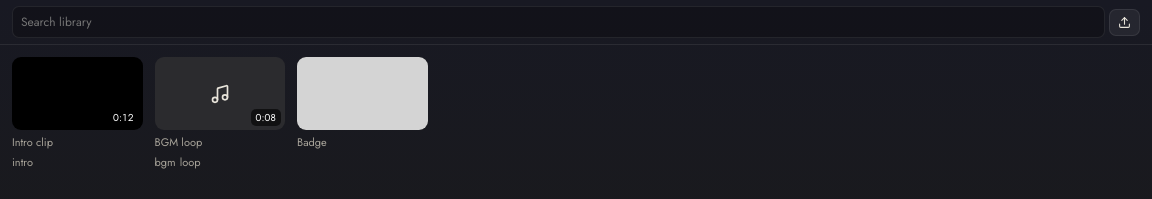
Test case: LibraryZone › Escape cancels the label edit without a PATCH
The width and height of the screenshot is (1152, 199).
Expected: the field with placeholder "Search library" is shown, 12,6 -> 1105,38
Double-click the text titled "Double-click to edit" at (32, 142), box 12,134 -> 53,150
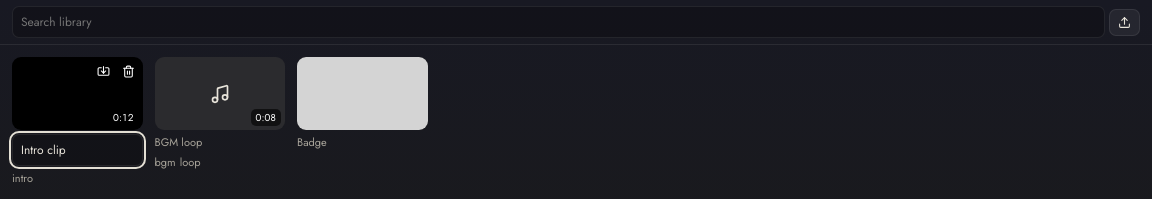
Replace the text in the 2nd field with "Whatever". click: (77, 150)
box: 12,134 -> 142,166
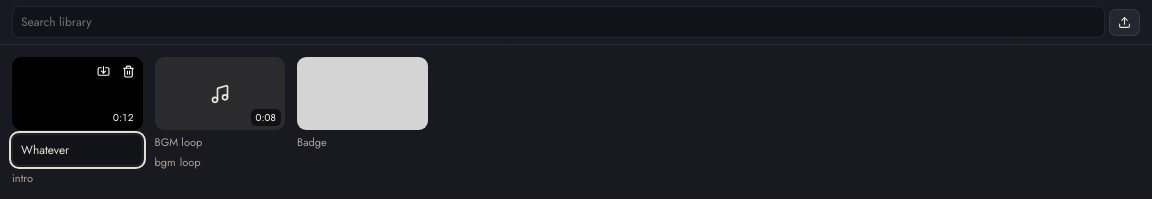
Press Escape in the 2nd field, box 12,134 -> 142,166
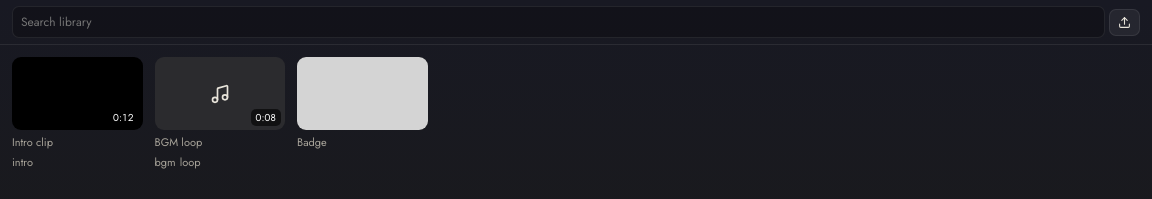
Expected: the text "Intro clip" is shown, 12,134 -> 53,150
